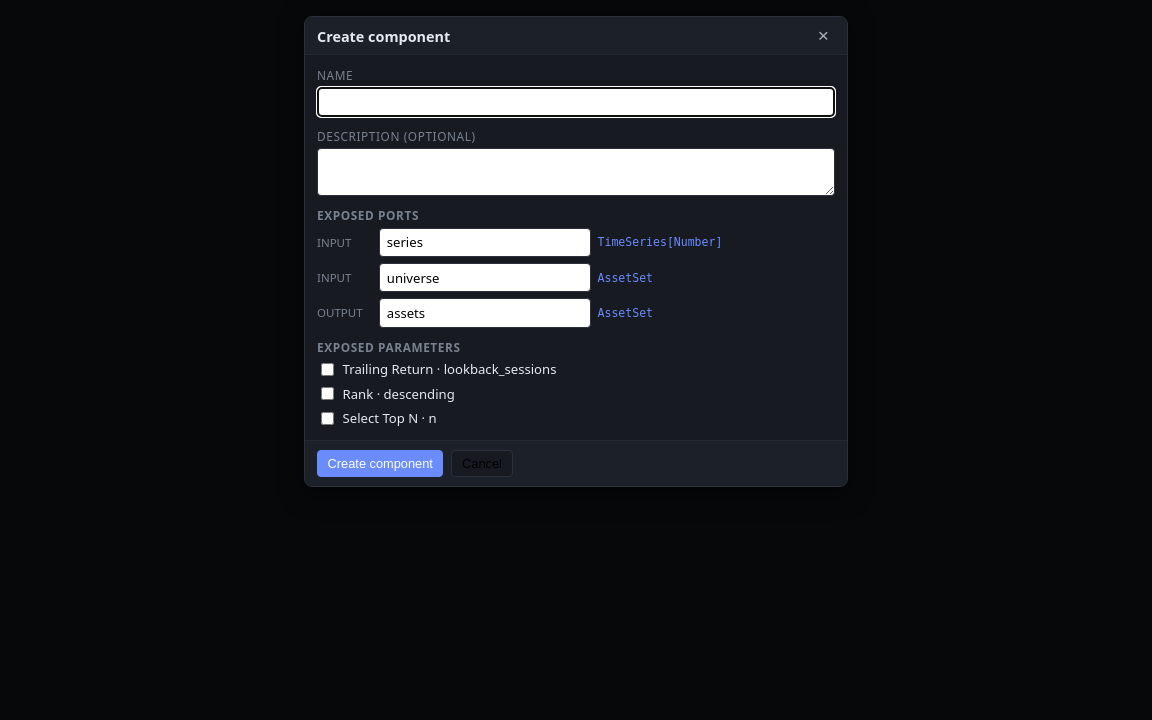
Test: ExtractDialog two-phase commit › saveComponent throws (ApiClientError) → error shown and the document is NEVER replaced
Type "Momentum" into the field named "component name" at (576, 102), box left=317, top=87, right=835, bottom=117
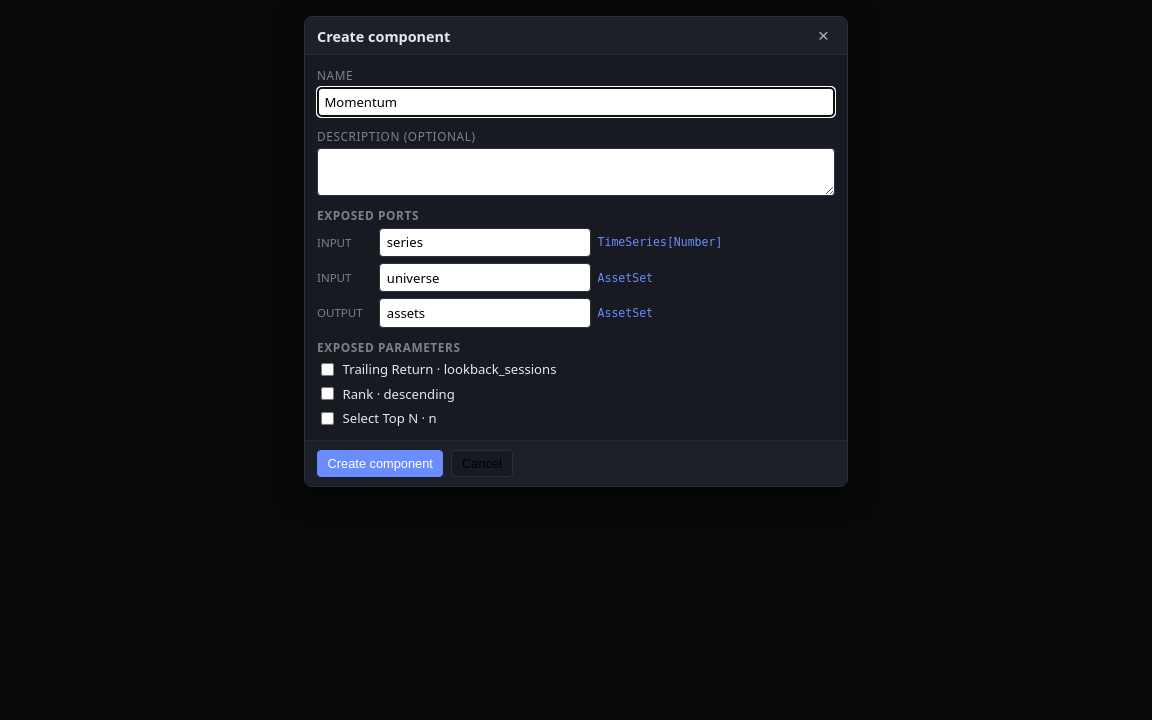
Click the button "Create component" at (380, 464), box left=317, top=450, right=444, bottom=477
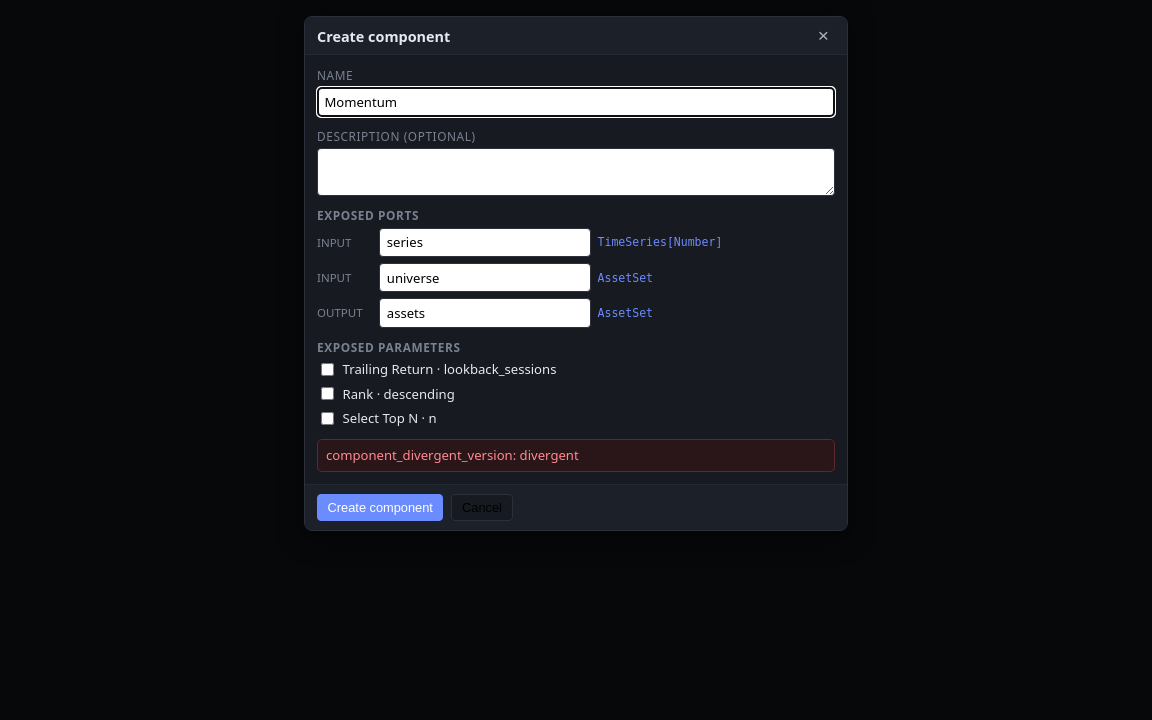
Now the text "component_divergent_version: divergent" is shown, box left=317, top=439, right=835, bottom=472
